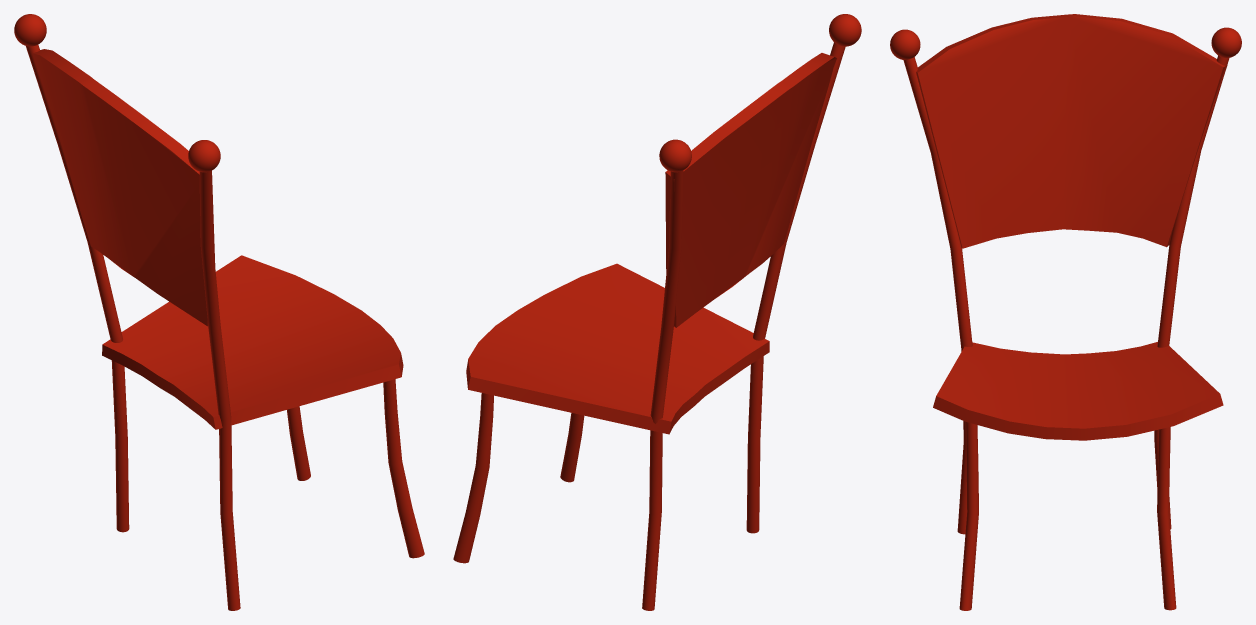
The model's file is sillaTrasera.obj.
The picture shows the model from 3 angles, left to right: view 1: azimuth 30°, elevation 25°; view 2: azimuth 150°, elevation 25°; view 3: azimuth 270°, elevation 25°; orthographic projection. The views are drawn at different scales.
Parts seen in each view (by area): view 1: silla4:polySurface252 group60; view 2: silla4:polySurface252 group60; view 3: silla4:polySurface252 group60.
Part boxes in pixels (<box>): silla4:polySurface252 group60: <box>14,14,424,610</box>; silla4:polySurface252 group60: <box>453,14,861,610</box>; silla4:polySurface252 group60: <box>890,14,1241,610</box>.
Bounding box in the file's own units: 0.5865 × 0.9897 × 0.6606.
Materials: 1 (1 with a texture image).
